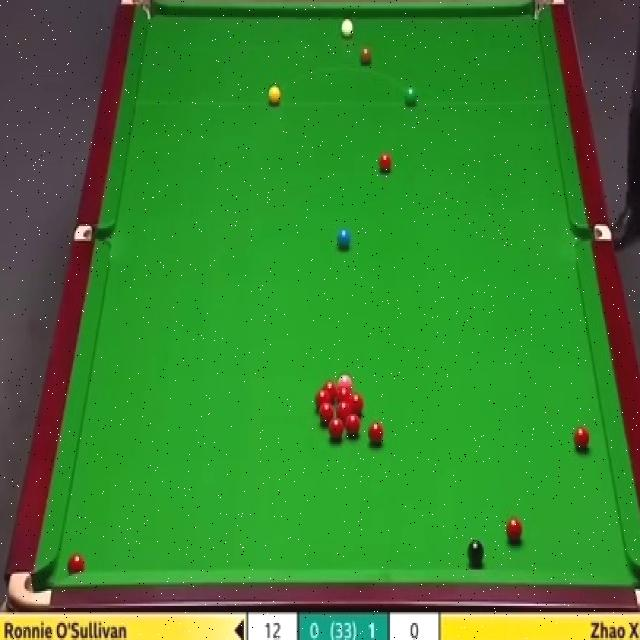black-ball: (467, 540, 484, 566)
blue-ball: (336, 228, 351, 251)
brown-ball: (361, 47, 373, 63)
green-ball: (404, 85, 418, 105)
pink-ball: (338, 374, 353, 386)
red-ball: (506, 517, 523, 542), (344, 413, 360, 436), (369, 422, 384, 445), (318, 403, 333, 425), (67, 554, 84, 573), (575, 426, 589, 449), (351, 393, 365, 416), (379, 151, 392, 174), (329, 418, 343, 439), (323, 380, 337, 398), (314, 390, 329, 404), (338, 384, 351, 400), (337, 403, 351, 415)
white-ball: (340, 19, 354, 38)
yellow-ball: (267, 86, 281, 106)
